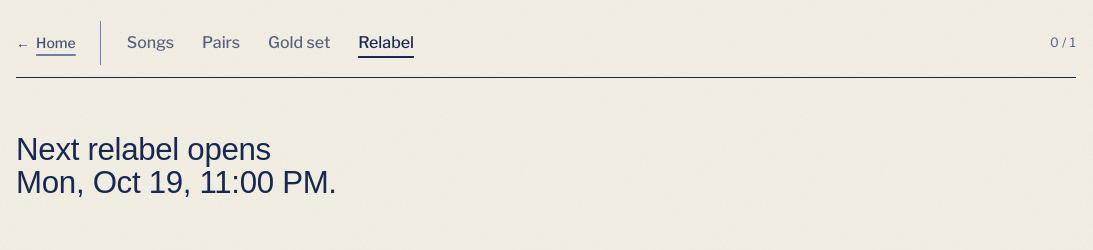
/label ways out and onward › offers no Continue when nothing else is open
Expected: the text "Next relabel opens Mon, Oct 19, 11:00 PM." is shown, top-left (16, 132), bottom-right (337, 200)
What coordinates should you click on to do the following:
click the button "Songs"
I would click on:
 (150, 43)
Its box is top-left (117, 21), bottom-right (184, 65).
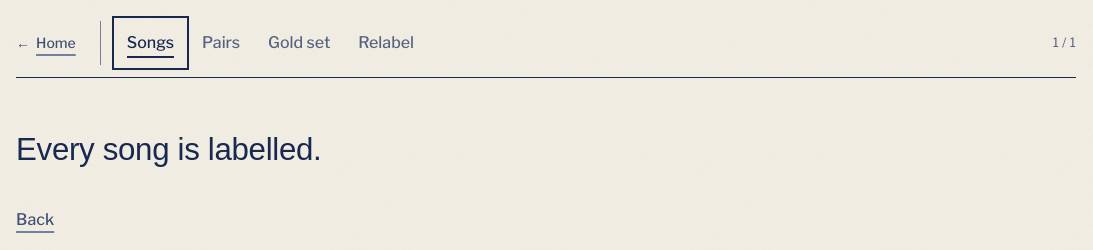
Expected: the text "Every song is labelled." is shown, top-left (16, 132), bottom-right (321, 167)
